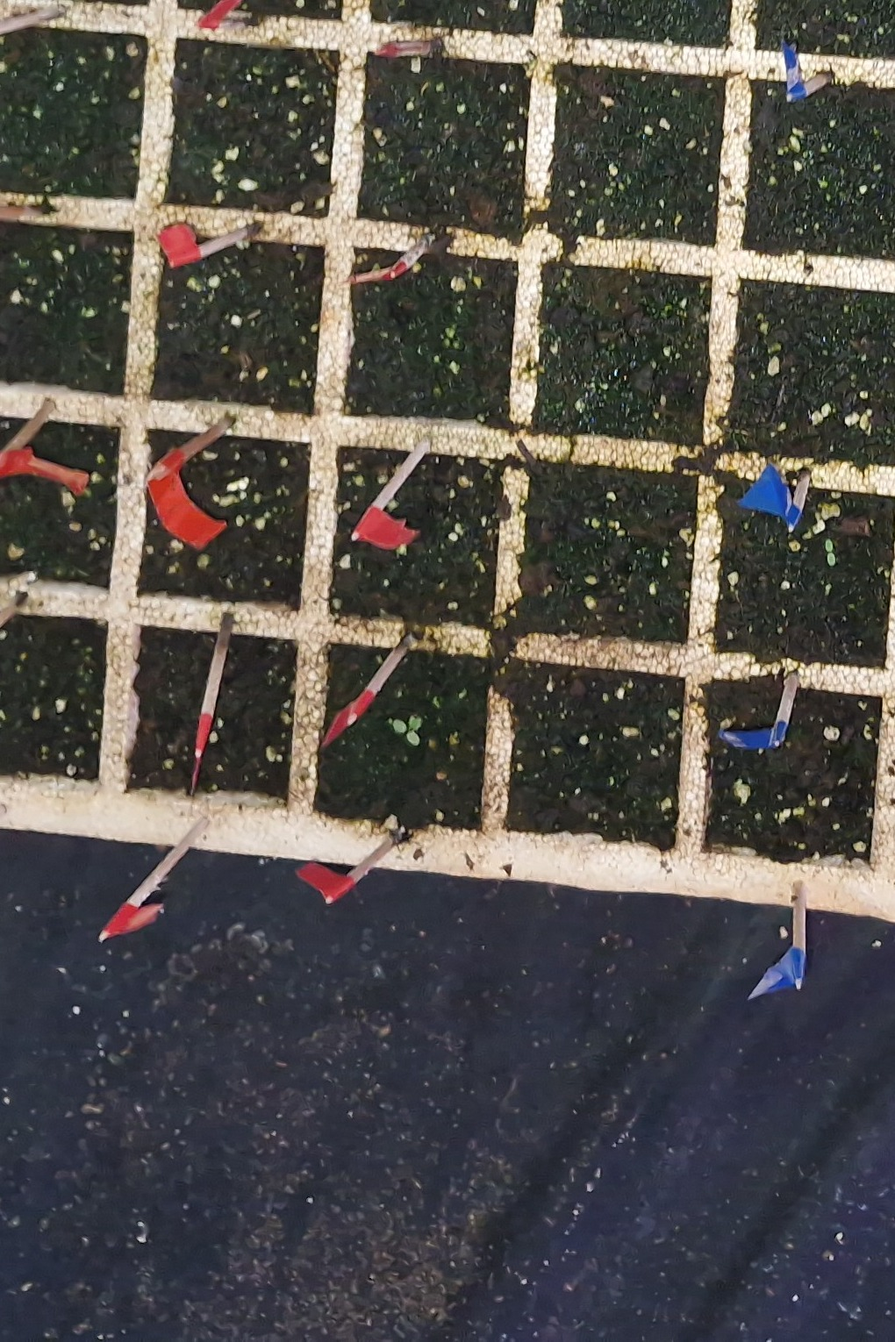Folha: (409, 716, 420, 731), (394, 720, 406, 733), (408, 731, 419, 745)
Germinacao: (393, 715, 423, 746), (826, 539, 835, 566)
